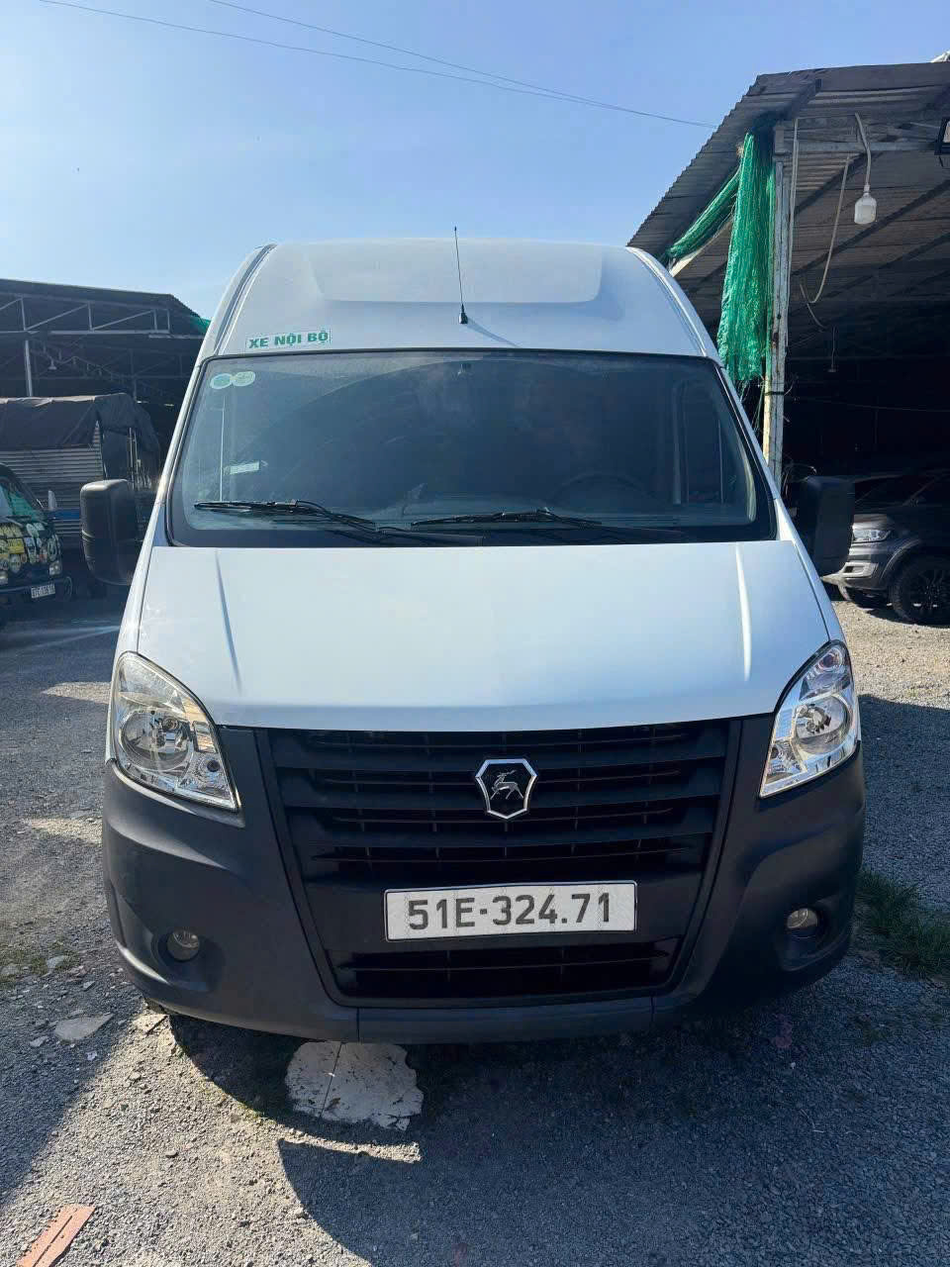Bien-so: (388, 889, 641, 943)
